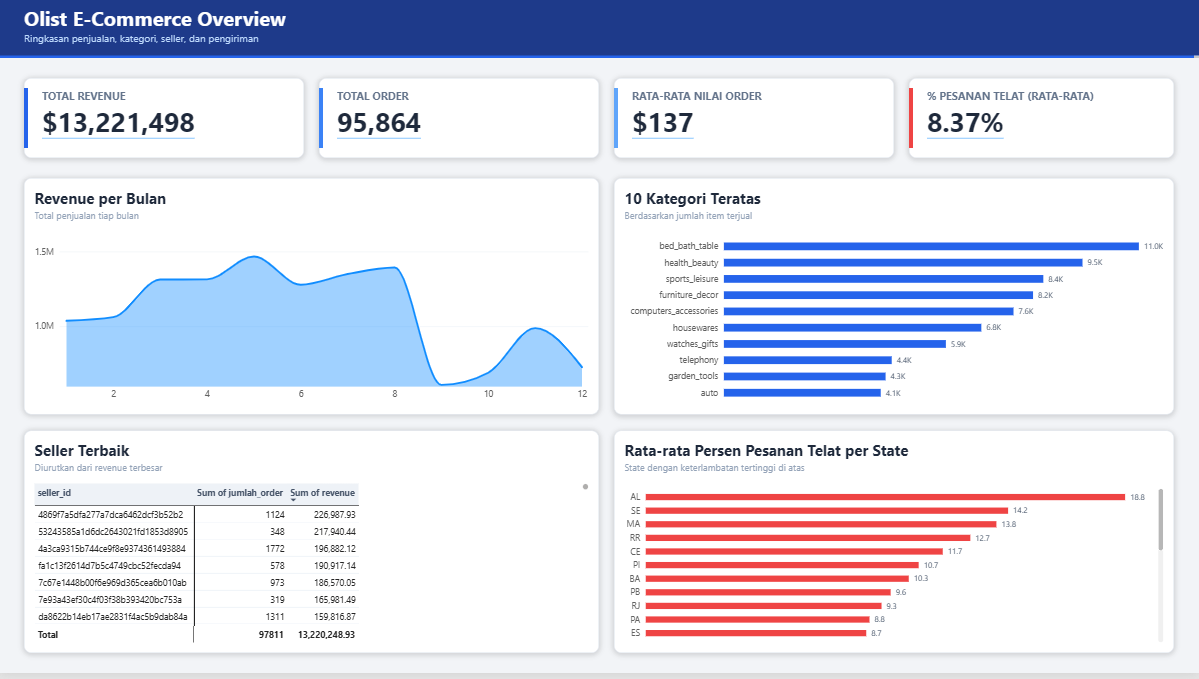

What the dashboard file says about the page in this screenshot:
{"tool":"powerbi","page":{"name":"Renevue Ecommerce","canvas":[1920,1080],"ordinal":0},"visuals":[{"type":"areaChart","title":"Revenue per Bulan","fields":{"Category":["sales_per_month.bulan"],"Y":["Sum(sales_per_month.revenue)"]},"box":[40,288,920,378],"z":0},{"type":"pivotTable","title":"Seller Terbaik","fields":{"Rows":["seller_performance.seller_id"],"Values":["Sum(seller_performance.jumlah_order)","Sum(seller_performance.revenue)"]},"box":[40,692,920,356],"z":1000},{"type":"barChart","title":"10 Kategori Teratas","fields":{"Category":["top_category.kategori"],"Y":["Sum(top_category.item_terjual)"]},"box":[984,288,896,378],"z":2000},{"type":"textbox","box":[0,0,1920,96],"z":3000},{"type":"barChart","title":"Rata-rata Persen Pesanan Telat per State","fields":{"Category":["delivery_delay.customer_state"],"Y":["Average(delivery_delay.persen_telat)"]},"box":[984,692,896,356],"z":4000},{"type":"textbox","box":[0,92,1920,4],"z":5000},{"type":"textbox","box":[40,10,1200,76],"z":6000},{"type":"textbox","box":[40,128,448,128],"z":7000},{"type":"textbox","box":[512,128,448,128],"z":8000},{"type":"textbox","box":[984,128,448,128],"z":9000},{"type":"textbox","box":[1456,128,424,128],"z":10000},{"type":"textbox","box":[40,144,6,96],"z":11000},{"type":"textbox","box":[512,144,6,96],"z":12000},{"type":"textbox","box":[984,144,6,96],"z":13000},{"type":"textbox","box":[1456,144,6,96],"z":14000}]}

Visuals, with their boxes in screenshot pixels (x1, y1, x2, y2), scaled from the page's 1920x1080 canvas onto the 1199x679 screenshot:
"Revenue per Bulan" areaChart: [left=25, top=181, right=600, bottom=419]
"Seller Terbaik" pivotTable: [left=25, top=435, right=600, bottom=659]
"10 Kategori Teratas" barChart: [left=614, top=181, right=1174, bottom=419]
textbox: [left=0, top=0, right=1198, bottom=60]
"Rata-rata Persen Pesanan Telat per State" barChart: [left=614, top=435, right=1174, bottom=659]
textbox: [left=0, top=58, right=1198, bottom=60]
textbox: [left=25, top=6, right=774, bottom=54]
textbox: [left=25, top=80, right=305, bottom=161]
textbox: [left=320, top=80, right=600, bottom=161]
textbox: [left=614, top=80, right=894, bottom=161]
textbox: [left=909, top=80, right=1174, bottom=161]
textbox: [left=25, top=91, right=29, bottom=151]
textbox: [left=320, top=91, right=323, bottom=151]
textbox: [left=614, top=91, right=618, bottom=151]
textbox: [left=909, top=91, right=913, bottom=151]
